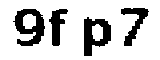7: (116, 3, 148, 50)
9: (12, 5, 46, 48)
f: (48, 5, 70, 50)
p: (78, 14, 114, 58)
